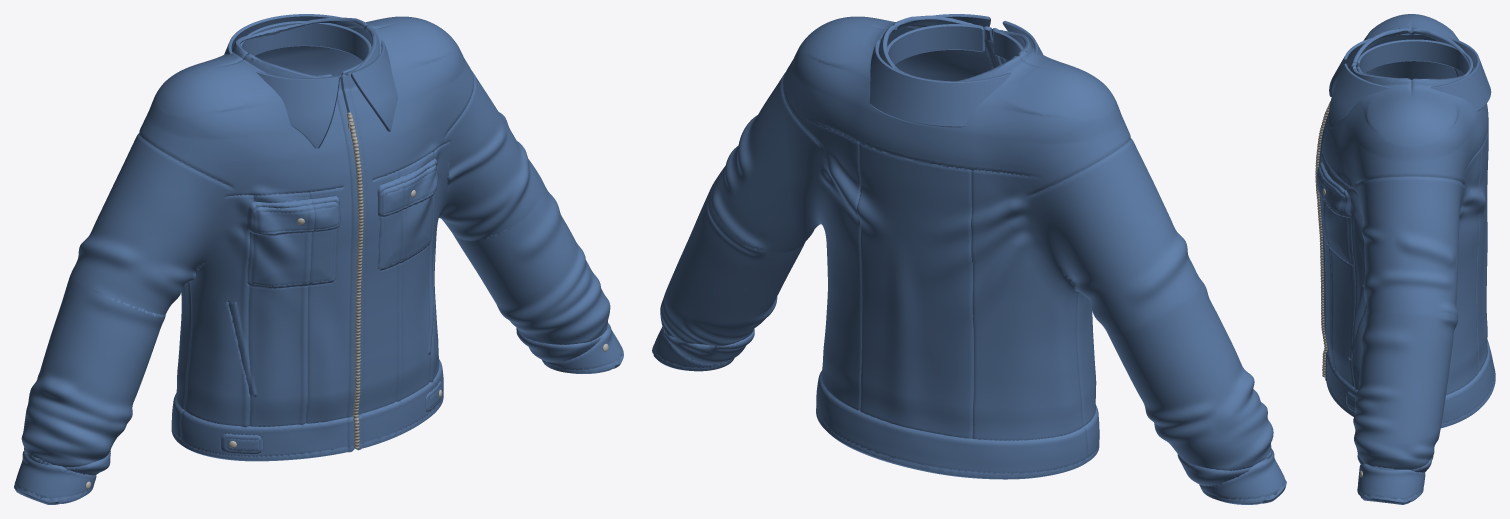
Rendered from 03_chaqueta_vaquera_cremallera.glb.
The picture shows the model from 3 angles, left to right: view 1: azimuth 30°, elevation 25°; view 2: azimuth 150°, elevation 25°; view 3: azimuth 270°, elevation 25°; orthographic projection. The views are drawn at different scales.
Parts seen in each view (by area): view 1: body, zipper; view 2: body; view 3: body, zipper.
Part boxes in pixels (<box>): body: <box>14,14,623,504</box>; zipper: <box>347,112,363,449</box>; body: <box>652,14,1286,504</box>; body: <box>1316,14,1495,504</box>; zipper: <box>1315,101,1330,377</box>.
Bounding box in the file's own units: 1.01 × 0.6095 × 0.3045.
